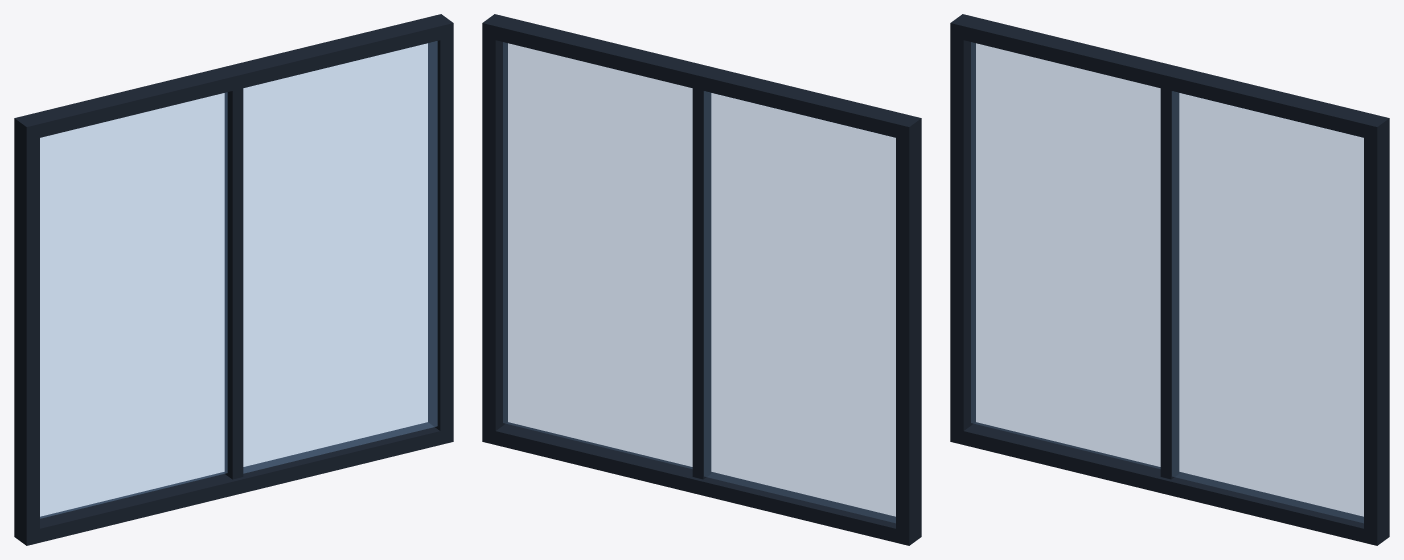
File: window_sliding_2pane.glb
The picture shows the model from 3 angles, left to right: view 1: azimuth 30°, elevation 25°; view 2: azimuth 150°, elevation 25°; view 3: azimuth 330°, elevation 25°; orthographic projection.
Parts seen in each view (by area): view 1: window_sliding_2pane; view 2: window_sliding_2pane; view 3: window_sliding_2pane.
Part boxes in pixels (bbox=[...]): window_sliding_2pane: bbox=[14, 14, 453, 545]; window_sliding_2pane: bbox=[482, 14, 921, 545]; window_sliding_2pane: bbox=[950, 14, 1389, 545].
Bounding box in the file's own units: 1.6 × 1.5 × 0.08.
